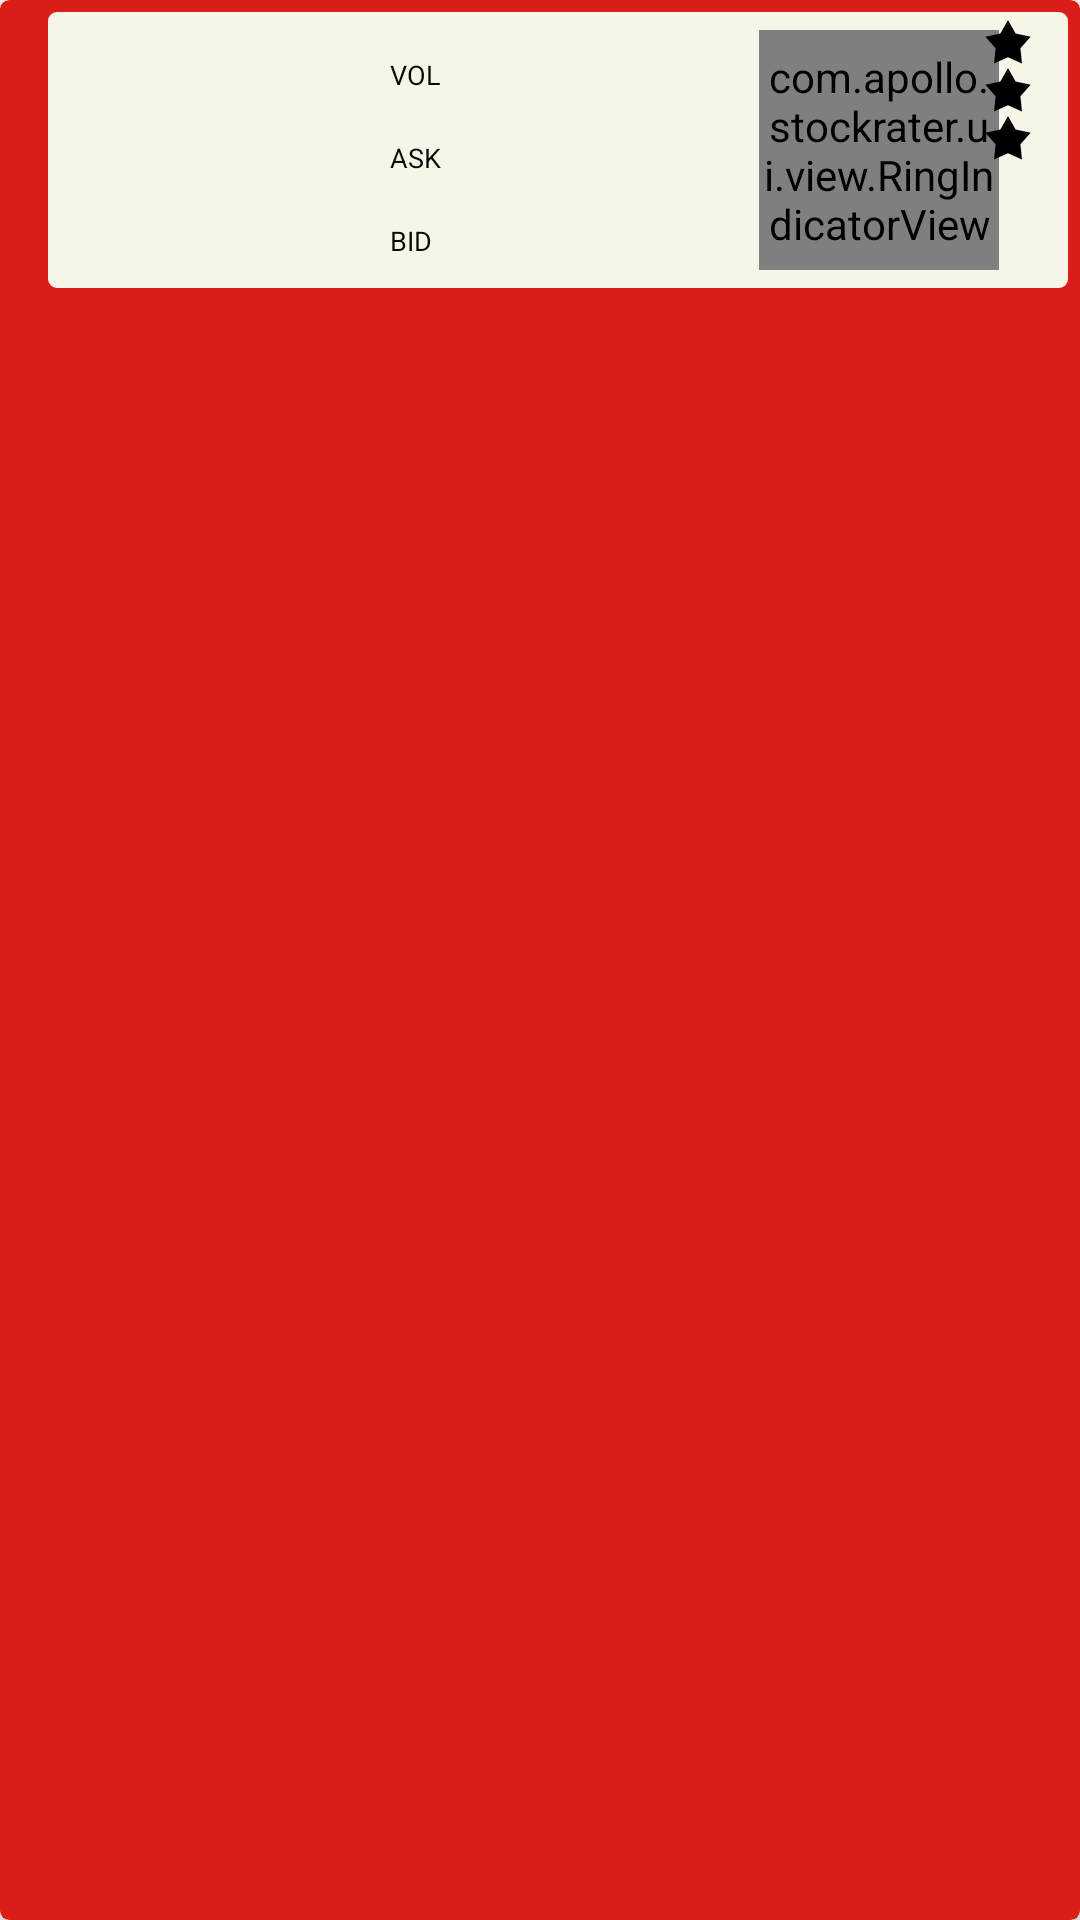

Point at icon controls on the screen. Image size 1080 x 1920, points as point (x, y).
star: point (1007, 43), point (1008, 90), point (1008, 138)
